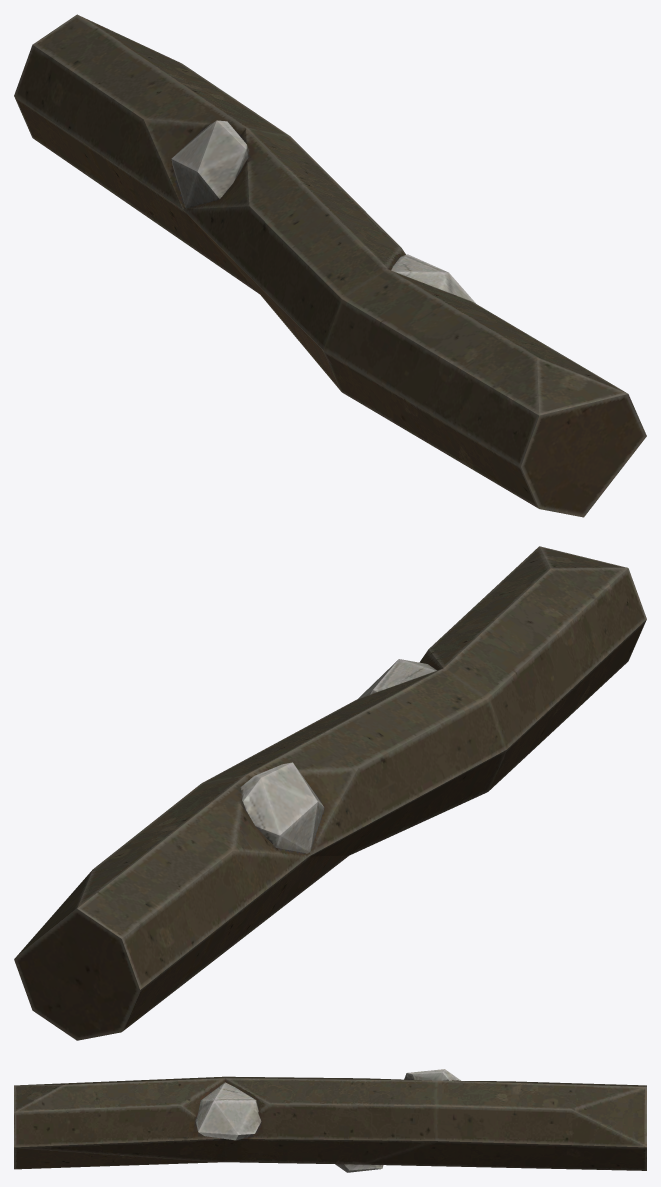
Rendered from SlagRod.glb.
3 views of the same model, one above another, from view 1: azimuth 30°, elevation 25°; view 2: azimuth 150°, elevation 25°; view 3: azimuth 270°, elevation 25° (orthographic). The views are drawn at different scales.
Parts seen in each view (by area): view 1: SlagRod; view 2: SlagRod; view 3: SlagRod.
Boxes of the visible parts, x1,y1,x2,y2 form: SlagRod: (14, 14, 646, 517); SlagRod: (14, 546, 646, 1040); SlagRod: (14, 1069, 646, 1172).
Size of the model in its own units: 0.1425 by 0.1318 by 0.8081.
1 material, 1 textured.
